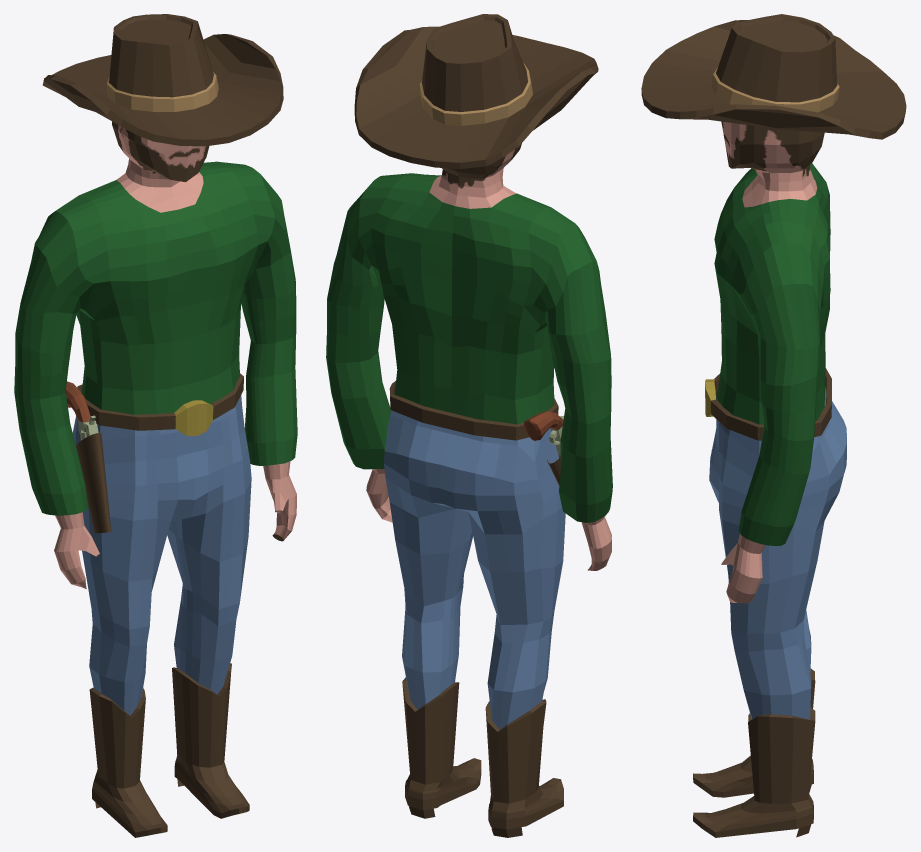
Rendered from COWBOY_REPOS.glb.
3 views of the same model, side by side, from view 1: azimuth 30°, elevation 25°; view 2: azimuth 150°, elevation 25°; view 3: azimuth 270°, elevation 25° (orthographic).
Parts seen in each view (by area): view 1: COWBOY_CHEMISE, COWBOYYY, CHAPEAU, COWBOY_VISAGE, COWBOY_CEINTURE, COWBOY_FOURREAU, Pistolet_Colt poignee; view 2: COWBOY_CHEMISE, COWBOYYY, CHAPEAU, COWBOY_VISAGE, COWBOY_CEINTURE, Pistolet_Colt poignee; view 3: COWBOYYY, COWBOY_CHEMISE, CHAPEAU, COWBOY_VISAGE, COWBOY_CEINTURE.
Part boxes in pixels (x1=…): COWBOY_CHEMISE: x1=14, y1=161, x2=297, y2=515; COWBOYYY: x1=54, y1=395, x2=296, y2=837; CHAPEAU: x1=42, y1=14, x2=283, y2=146; COWBOY_VISAGE: x1=112, y1=121, x2=209, y2=212; COWBOY_CEINTURE: x1=77, y1=373, x2=243, y2=435; COWBOY_FOURREAU: x1=76, y1=433, x2=111, y2=533; Pistolet_Colt poignee: x1=66, y1=381, x2=90, y2=422; COWBOY_CHEMISE: x1=326, y1=173, x2=612, y2=522; COWBOYYY: x1=366, y1=410, x2=611, y2=837; CHAPEAU: x1=354, y1=14, x2=598, y2=168; COWBOY_VISAGE: x1=429, y1=143, x2=521, y2=208; COWBOY_CEINTURE: x1=389, y1=381, x2=558, y2=440; Pistolet_Colt poignee: x1=523, y1=411, x2=563, y2=440; COWBOYYY: x1=693, y1=387, x2=846, y2=837; COWBOY_CHEMISE: x1=714, y1=163, x2=830, y2=545; CHAPEAU: x1=641, y1=14, x2=906, y2=139; COWBOY_VISAGE: x1=721, y1=121, x2=824, y2=207; COWBOY_CEINTURE: x1=705, y1=368, x2=831, y2=440.
Size of the model in its own units: 0.721 by 1.94 by 0.5945.
7 materials, 5 textured.
